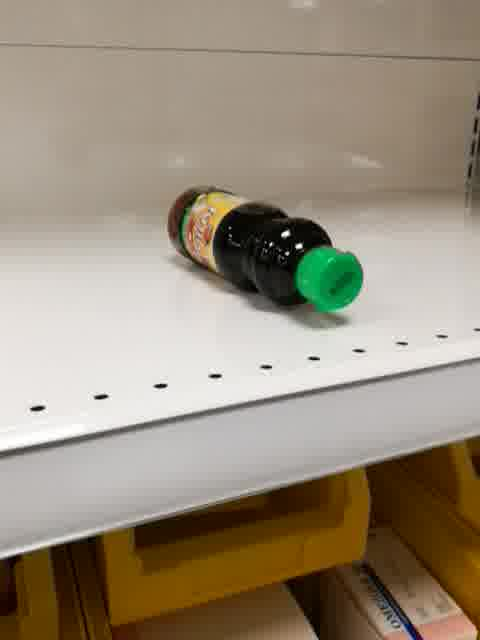cookingoil: (165, 180, 369, 312)
